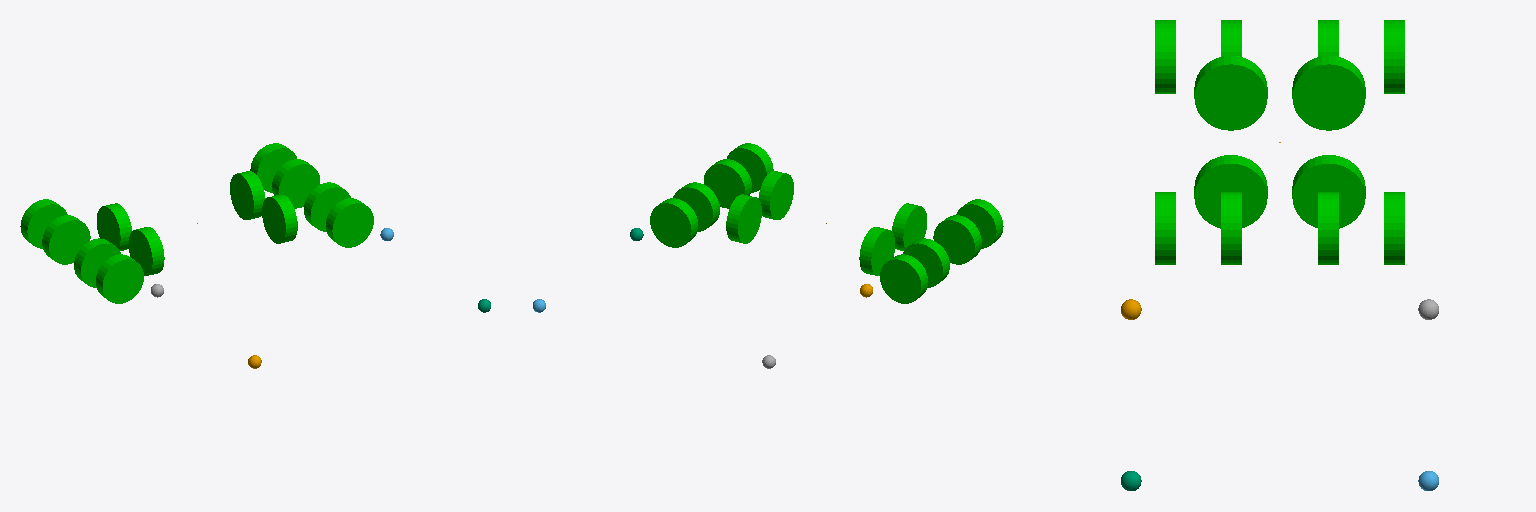
--- What the picture shows (computed from the rendered views, not written in the file) ---
Views: 3 orthographic renders of the robot side by side, from view 1: azimuth 30°, elevation 25°; view 2: azimuth 150°, elevation 25°; view 3: azimuth 270°, elevation 25°.
Model go2 with 32 links and 31 joints (12 revolute, 19 fixed), rooted at base, posed joints at zero except 4 at the middle of their limits (RF_KFE = -1.78, LF_KFE = -1.78, RH_KFE = -1.78, LH_KFE = -1.78).
Visible links, largest first — view 1: RF_calf_rotor, RH_calf_rotor, LH_thigh_rotor, LF_thigh_rotor, RF_hip_rotor, LF_hip_rotor, RH_hip_rotor, RF_thigh_rotor, RH_thigh_rotor, LH_calf_rotor, LH_hip_rotor, LF_calf_rotor; view 2: LF_calf_rotor, LH_calf_rotor, RH_thigh_rotor, RF_thigh_rotor, LF_hip_rotor, RF_hip_rotor, LH_hip_rotor, LF_thigh_rotor, LH_thigh_rotor, RH_calf_rotor, RH_hip_rotor, RF_calf_rotor; view 3: RH_hip_rotor, LH_hip_rotor, RF_hip_rotor, LF_hip_rotor, RH_calf_rotor, LH_calf_rotor, RF_thigh_rotor, RF_calf_rotor, LF_thigh_rotor, LF_calf_rotor, RH_thigh_rotor, LH_thigh_rotor.
Link boxes in pixels (box(x1,y1,x2,y2)): RF_calf_rotor: box(326, 198, 373, 247); RH_calf_rotor: box(96, 254, 143, 303); LH_thigh_rotor: box(42, 215, 90, 264); LF_thigh_rotor: box(272, 159, 319, 208); RF_hip_rotor: box(262, 194, 297, 243); LF_hip_rotor: box(230, 171, 265, 219); RH_hip_rotor: box(129, 227, 164, 275); RF_thigh_rotor: box(304, 182, 350, 231); RH_thigh_rotor: box(74, 238, 120, 287); LH_calf_rotor: box(20, 199, 67, 248); LH_hip_rotor: box(97, 203, 131, 250); LF_calf_rotor: box(250, 143, 296, 192); LF_calf_rotor: box(650, 198, 697, 247); LH_calf_rotor: box(880, 254, 927, 303); RH_thigh_rotor: box(933, 215, 981, 264); RF_thigh_rotor: box(704, 159, 751, 208); LF_hip_rotor: box(726, 194, 761, 243); RF_hip_rotor: box(758, 171, 793, 219); LH_hip_rotor: box(859, 227, 894, 275); LF_thigh_rotor: box(673, 182, 719, 231); LH_thigh_rotor: box(903, 238, 949, 287); RH_calf_rotor: box(956, 199, 1003, 248); RH_hip_rotor: box(892, 203, 926, 250); RF_calf_rotor: box(727, 143, 773, 192); RH_hip_rotor: box(1194, 55, 1267, 130); LH_hip_rotor: box(1292, 55, 1365, 130); RF_hip_rotor: box(1194, 155, 1267, 228); LF_hip_rotor: box(1292, 155, 1365, 228); RH_calf_rotor: box(1155, 20, 1175, 93); LH_calf_rotor: box(1384, 20, 1404, 93); RF_thigh_rotor: box(1221, 192, 1241, 264); RF_calf_rotor: box(1155, 192, 1175, 264); LF_thigh_rotor: box(1318, 192, 1338, 264); LF_calf_rotor: box(1384, 192, 1404, 264); RH_thigh_rotor: box(1221, 20, 1241, 56); LH_thigh_rotor: box(1318, 20, 1338, 56).
Bounding box of the posed robot: 0.6401 × 0.304 × 0.2137 m (x, y, z).
Meshes: 5 distinct files referenced, 0 mesh visuals loaded (none loaded); not drawn: 13 (reference not matched to a file when rendering).

The robot description file, URDF, robot "go2":
<?xml version="1.0" ?>
<!-- =================================================================================== -->
<!-- |    This document was autogenerated by xacro from robot.xacro                    | -->
<!-- |    EDITING THIS FILE BY HAND IS NOT RECOMMENDED                                 | -->
<!-- =================================================================================== -->
<robot name="go2">
  <material name="black">
    <color rgba="0.0 0.0 0.0 1.0"/>
  </material>
  <material name="blue">
    <color rgba="0.0 0.0 0.8 1.0"/>
  </material>
  <material name="green">
    <color rgba="0.0 0.8 0.0 1.0"/>
  </material>
  <material name="grey">
    <color rgba="0.2 0.2 0.2 0.0"/>
  </material>
  <material name="silver">
    <color rgba="0.9137254901960784 0.9137254901960784 0.8470588235294118 1.0"/>
  </material>
  <material name="orange">
    <color rgba="1.0 0.4235294117647059 0.0392156862745098 1.0"/>
  </material>
  <material name="brown">
    <color rgba="0.8705882352941177 0.8117647058823529 0.7647058823529411 1.0"/>
  </material>
  <material name="red">
    <color rgba="0.8 0.0 0.0 1.0"/>
  </material>
  <material name="white">
    <color rgba="1.0 1.0 1.0 1.0"/>
  </material>
  <!-- ros_control plugin -->
    <gazebo>
    <plugin filename="liblegged_hw_sim.so" name="gazebo_ros_control">
      <robotNamespace>/</robotNamespace>
      <robotParam>legged_robot_description</robotParam>
      <robotSimType>legged_gazebo/LeggedHWSim</robotSimType>
    </plugin>
  </gazebo>
  <gazebo>
    <plugin filename="libgazebo_ros_p3d.so" name="p3d_base_controller">
      <alwaysOn>true</alwaysOn>
      <updateRate>1000.0</updateRate>
      <bodyName>base</bodyName>
      <topicName>ground_truth/state</topicName>
      <gaussianNoise>0</gaussianNoise>
      <frameName>world</frameName>
      <xyzOffsets>0 0 0</xyzOffsets>
      <rpyOffsets>0 0 0</rpyOffsets>
    </plugin>
  </gazebo>

  <gazebo reference="trunk">
    <mu1>0.2</mu1>
    <mu2>0.2</mu2>
    <kp value="1000000.0"/>
    <kd value="1.0"/>
  </gazebo>
  <gazebo reference="stick_link">
    <mu1>0.2</mu1>
    <mu2>0.2</mu2>
  </gazebo>
  <gazebo reference="base_imu">
    <mu1>0.2</mu1>
    <mu2>0.2</mu2>
  </gazebo>
  <!-- FL leg -->
  <gazebo reference="LF_hip">
    <mu1>0.2</mu1>
    <mu2>0.2</mu2>
  </gazebo>
  <gazebo reference="LF_thigh">
    <mu1>0.2</mu1>
    <mu2>0.2</mu2>
    <self_collide>1</self_collide>
    <kp value="1000000.0"/>
    <kd value="1.0"/>
  </gazebo>
  <gazebo reference="LF_calf">
    <mu1>0.2</mu1>
    <mu2>0.2</mu2>
    <self_collide>1</self_collide>
  </gazebo>
  <gazebo reference="LF_FOOT">
    <mu1>0.6</mu1>
    <mu2>0.6</mu2>
    <self_collide>1</self_collide>
    <kp value="1000000.0"/>
    <kd value="1.0"/>
  </gazebo>
  <!-- FR leg -->
  <gazebo reference="RF_hip">
    <mu1>0.2</mu1>
    <mu2>0.2</mu2>
  </gazebo>
  <gazebo reference="RF_thigh">
    <mu1>0.2</mu1>
    <mu2>0.2</mu2>
    <self_collide>1</self_collide>
    <kp value="1000000.0"/>
    <kd value="1.0"/>
  </gazebo>
  <gazebo reference="RF_calf">
    <mu1>0.2</mu1>
    <mu2>0.2</mu2>
    <self_collide>1</self_collide>
  </gazebo>
  <gazebo reference="RF_FOOT">
    <mu1>0.6</mu1>
    <mu2>0.6</mu2>
    <self_collide>1</self_collide>
    <kp value="1000000.0"/>
    <kd value="1.0"/>
  </gazebo>
  <!-- RL leg -->
  <gazebo reference="LH_hip">
    <mu1>0.2</mu1>
    <mu2>0.2</mu2>
  </gazebo>
  <gazebo reference="LH_thigh">
    <mu1>0.2</mu1>
    <mu2>0.2</mu2>
    <self_collide>1</self_collide>
    <kp value="1000000.0"/>
    <kd value="1.0"/>
  </gazebo>
  <gazebo reference="LH_calf">
    <mu1>0.2</mu1>
    <mu2>0.2</mu2>
    <self_collide>1</self_collide>
  </gazebo>
  <gazebo reference="LH_FOOT">
    <mu1>0.6</mu1>
    <mu2>0.6</mu2>
    <self_collide>1</self_collide>
    <kp value="1000000.0"/>
    <kd value="1.0"/>
  </gazebo>
  <!-- RR leg -->
  <gazebo reference="LH_hip">
    <mu1>0.2</mu1>
    <mu2>0.2</mu2>
  </gazebo>
  <gazebo reference="RH_thigh">
    <mu1>0.2</mu1>
    <mu2>0.2</mu2>
    <self_collide>1</self_collide>
    <kp value="1000000.0"/>
    <kd value="1.0"/>
  </gazebo>
  <gazebo reference="RH_calf">
    <mu1>0.2</mu1>
    <mu2>0.2</mu2>
    <self_collide>1</self_collide>
  </gazebo>
  <gazebo reference="RH_FOOT">
    <mu1>0.6</mu1>
    <mu2>0.6</mu2>
    <self_collide>1</self_collide>
    <kp value="1000000.0"/>
    <kd value="1.0"/>
  </gazebo>
  <!-- <xacro:include filename="$(find go2_gazebo)/launch/stairs.urdf.xacro"/> -->
  <!-- <xacro:stairs stairs="15" xpos="0" ypos="0" zpos="0" /> -->
  <!-- Rotor related joint and link is only for demonstrate location. -->
  <!-- Actually, the rotor will rotate and the joint is not fixed. Reduction ratio should be considered. -->
  <link name="base">
    <visual>
      <origin rpy="0 0 0" xyz="0 0 0"/>
      <geometry>
        <box size="0.001 0.001 0.001"/>
      </geometry>
    </visual>
  </link>
  <joint name="floating_base" type="fixed">
    <origin rpy="0 0 0" xyz="0 0 0"/>
    <parent link="base"/>
    <child link="trunk"/>
  </joint>
  <link name="trunk">
    <visual>
      <origin rpy="0 0 0" xyz="0 0 0"/>
      <geometry>
        <mesh filename="go2_mesh/base.dae" scale="1 1 1"/>
      </geometry>
      <!-- <material name="orange"/> -->
    </visual>
    <collision>
      <origin rpy="0 0 0" xyz="0 0 0"/>
      <geometry>
        <box size="0.3762 0.0935 0.114"/>
      </geometry>
    </collision>
    <inertial>
      <origin rpy="0 0 0" xyz="0.021112 0.0 -0.005366"/>
      <mass value="6.921"/>
      <inertia ixx="0.02448" ixy="0.00012166" ixz="0.0014849" iyy="0.098077" iyz="-3.12e-05" izz="0.107"/>
    </inertial>
  </link>
  <joint name="base_imu_joint" type="fixed">
    <parent link="trunk"/>
    <child link="base_imu"/>
    <origin rpy="0 0 0" xyz="0 0 0"/>
  </joint>

  <gazebo reference="base_imu_joint">
    <disableFixedJointLumping>true</disableFixedJointLumping>
  </gazebo>

  <link name="base_imu">
    <inertial>
      <mass value="0.001"/>
      <origin rpy="0 0 0" xyz="0 0 0"/>
      <inertia ixx="0.0001" ixy="0" ixz="0" iyy="0.0001" iyz="0" izz="0.0001"/>
    </inertial>
    <visual>
      <origin rpy="0 0 0" xyz="0 0 0"/>
      <geometry>
        <box size="0.001 0.001 0.001"/>
      </geometry>
      <!-- <material name="red"/> -->
    </visual>
    <collision>
      <origin rpy="0 0 0" xyz="0 0 0"/>
      <geometry>
        <box size=".001 .001 .001"/>
      </geometry>
    </collision>
  </link>
  <joint name="front_camera_joint" type="fixed">
    <parent link="trunk"/>
    <child link="front_camera"/>
    <origin rpy="0 0 0" xyz="0.32715 -0.00003 0.04297"/>
  </joint>
  <link name="front_camera">
    </link>
  <joint name="RF_HAA" type="revolute">
    <origin rpy="0 0 0" xyz="0.1934 -0.0465 0"/>
    <parent link="trunk"/>
    <child link="RF_hip"/>
    <axis xyz="1 0 0"/>
    <dynamics damping="0.0" friction="0.0"/>
    <limit effort="23.7" lower="-1.0472" upper="1.0472" velocity="30.1"/>
  </joint>
  <joint name="RF_hip_rotor_joint" type="fixed">
    <origin rpy="0 0 0" xyz="0.11215 -0.04675 0"/>
    <parent link="trunk"/>
    <child link="RF_hip_rotor"/>
  </joint>
  <link name="RF_hip">
    <visual>
      <origin rpy="3.141592653589793 0 0" xyz="0 0 0"/>
      <geometry>
        <mesh filename="go2_mesh/hip.dae" scale="1 1 1"/>
      </geometry>
      <!-- <material name="orange"/> -->
    </visual>
    <collision>
      <origin rpy="1.5707963267948966 0 0" xyz="0 -0.0955 0"/>
      <geometry>
        <cylinder length="0.04" radius="0.046"/>
      </geometry>
    </collision>
    <inertial>
      <origin rpy="0 0 0" xyz="-0.0054 -0.00194 -0.000105"/>
      <mass value="0.678"/>
      <inertia ixx="0.00048" ixy="3.01e-06" ixz="1.11e-06" iyy="0.000884" iyz="1.42e-06" izz="0.000596"/>
    </inertial>
  </link>
  <link name="RF_hip_rotor">
    <visual>
      <origin rpy="0 1.5707963267948966 0" xyz="0 0 0"/>
      <geometry>
        <cylinder length="0.02" radius="0.035"/>
      </geometry>
      <material name="green"/>
    </visual>
    <!-- <collision>
                <origin rpy="0 ${PI/2.0} 0" xyz="0 0 0"/>
                <geometry>
                    <cylinder length="0.02" radius="0.035"/>
                </geometry>
            </collision> -->
    <inertial>
      <origin rpy="0 0 0" xyz="0.0 0.0 0.0"/>
      <mass value="0.089"/>
      <inertia ixx="0.000111842" ixy="0.0" ixz="0.0" iyy="5.9647e-05" iyz="0.0" izz="5.9647e-05"/>
    </inertial>
  </link>
  <joint name="RF_HFE" type="revolute">
    <origin rpy="0 0 0" xyz="0 -0.0955 0"/>
    <parent link="RF_hip"/>
    <child link="RF_thigh"/>
    <axis xyz="0 1 0"/>
    <dynamics damping="0.0" friction="0.0"/>
    <limit effort="23.7" lower="-1.5708" upper="3.4907" velocity="30.1"/>
  </joint>
  <joint name="RF_thigh_rotor_joint" type="fixed">
    <origin rpy="0 0 0" xyz="0.0 0.00015 0"/>
    <parent link="RF_hip"/>
    <child link="RF_thigh_rotor"/>
  </joint>
  <link name="RF_thigh">
    <visual>
      <origin rpy="0 0 0" xyz="0 0 0"/>
      <geometry>
        <mesh filename="go2_mesh/thigh_mirror.dae" scale="1 1 1"/>
      </geometry>
      <!-- <material name="orange"/> -->
    </visual>
    <collision>
      <origin rpy="0 1.5707963267948966 0" xyz="0 0 -0.1065"/>
      <geometry>
        <box size="0.213 0.0245 0.034"/>
      </geometry>
    </collision>
    <inertial>
      <origin rpy="0 0 0" xyz="-0.00374 0.0223 -0.0327"/>
      <mass value="1.152"/>
      <inertia ixx="0.00584" ixy="-8.72e-05" ixz="-0.000289" iyy="0.0058" iyz="-0.000808" izz="0.00103"/>
    </inertial>
  </link>
  <link name="RF_thigh_rotor">
    <visual>
      <origin rpy="1.5707963267948966 0 0" xyz="0 0 0"/>
      <geometry>
        <cylinder length="0.02" radius="0.035"/>
      </geometry>
      <material name="green"/>
    </visual>
    <!-- <collision>
                <origin rpy="${PI/2.0} 0 0" xyz="0 0 0"/>
                <geometry>
                    <cylinder length="0.02" radius="0.035"/>
                </geometry>
            </collision> -->
    <inertial>
      <origin rpy="0 0 0" xyz="0.0 0.0 0.0"/>
      <mass value="0.089"/>
      <inertia ixx="5.9647e-05" ixy="0.0" ixz="0.0" iyy="0.000111842" iyz="0.0" izz="5.9647e-05"/>
    </inertial>
  </link>
  <joint name="RF_KFE" type="revolute">
    <origin rpy="0 0 0" xyz="0 0 -0.213"/>
    <parent link="RF_thigh"/>
    <child link="RF_calf"/>
    <axis xyz="0 1 0"/>
    <dynamics damping="0.0" friction="0.0"/>
    <limit effort="35.55" lower="-2.7227" upper="-0.83776" velocity="20.06"/>
  </joint>
  <joint name="RF_calf_rotor_joint" type="fixed">
    <origin rpy="0 0 0" xyz="0.0 0.03235 0"/>
    <parent link="RF_thigh"/>
    <child link="RF_calf_rotor"/>
  </joint>
  <link name="RF_calf">
    <visual>
      <origin rpy="0 0 0" xyz="0 0 0"/>
      <geometry>
        <mesh filename="go2_mesh/calf.dae" scale="1 1 1"/>
      </geometry>
      <!-- <material name="orange"/> -->
    </visual>
    <collision>
      <origin rpy="0 1.5707963267948966 0" xyz="0 0 -0.1065"/>
      <geometry>
        <box size="0.213 0.016 0.016"/>
      </geometry>
    </collision>
    <inertial>
      <origin rpy="0 0 0" xyz="0.00548 -0.000975 -0.115"/>
      <mass value="0.154"/>
      <inertia ixx="0.00108" ixy="3.4e-07" ixz="1.72e-05" iyy="0.0011" iyz="8.28e-06" izz="3.29e-05"/>
    </inertial>
  </link>
  <link name="RF_calf_rotor">
    <visual>
      <origin rpy="1.5707963267948966 0 0" xyz="0 0 0"/>
      <geometry>
        <cylinder length="0.02" radius="0.035"/>
      </geometry>
      <material name="green"/>
    </visual>
    <!-- <collision>
                <origin rpy="${PI/2.0} 0 0" xyz="0 0 0"/>
                <geometry>
                    <cylinder length="0.02" radius="0.035"/>
                </geometry>
            </collision> -->
    <inertial>
      <origin rpy="0 0 0" xyz="0.0 0.0 0.0"/>
      <mass value="0.089"/>
      <inertia ixx="5.9647e-05" ixy="0.0" ixz="0.0" iyy="0.000111842" iyz="0.0" izz="5.9647e-05"/>
    </inertial>
  </link>
  <joint dont_collapse="true" name="RF_foot_fixed" type="fixed">
    <origin rpy="0 0 0" xyz="0 0 -0.213"/>
    <parent link="RF_calf"/>
    <child link="RF_FOOT"/>
  </joint>

  <gazebo reference="RF_foot_fixed">
    <disableFixedJointLumping>true</disableFixedJointLumping>
  </gazebo>

  <link name="RF_FOOT">
    <visual>
      <origin rpy="0 0 0" xyz="0 0 0"/>
      <geometry>
        <sphere radius="0.01"/>
      </geometry>
      <!-- <material name="orange"/> -->
    </visual>
    <collision>
      <origin rpy="0 0 0" xyz="0 0 0"/>
      <geometry>
        <sphere radius="0.02"/>
      </geometry>
    </collision>
    <inertial>
      <mass value="0.06"/>
      <inertia ixx="9.600000000000001e-06" ixy="0.0" ixz="0.0" iyy="9.600000000000001e-06" iyz="0.0" izz="9.600000000000001e-06"/>
    </inertial>
  </link>
  <transmission name="RF_hip_tran">
    <type>transmission_interface/SimpleTransmission</type>
    <joint name="RF_HAA">
      <hardwareInterface>hardware_interface/EffortJointInterface</hardwareInterface>
    </joint>
    <actuator name="RF_hip_motor">
      <hardwareInterface>hardware_interface/EffortJointInterface</hardwareInterface>
      <mechanicalReduction>1</mechanicalReduction>
    </actuator>
  </transmission>
  <transmission name="RF_thigh_tran">
    <type>transmission_interface/SimpleTransmission</type>
    <joint name="RF_HFE">
      <hardwareInterface>hardware_interface/EffortJointInterface</hardwareInterface>
    </joint>
    <actuator name="RF_thigh_motor">
      <hardwareInterface>hardware_interface/EffortJointInterface</hardwareInterface>
      <mechanicalReduction>1</mechanicalReduction>
    </actuator>
  </transmission>
  <transmission name="RF_calf_tran">
    <type>transmission_interface/SimpleTransmission</type>
    <joint name="RF_KFE">
      <hardwareInterface>hardware_interface/EffortJointInterface</hardwareInterface>
    </joint>
    <actuator name="RF_calf_motor">
      <hardwareInterface>hardware_interface/EffortJointInterface</hardwareInterface>
      <mechanicalReduction>1</mechanicalReduction>
    </actuator>
  </transmission>
  <joint name="LF_HAA" type="revolute">
    <origin rpy="0 0 0" xyz="0.1934 0.0465 0"/>
    <parent link="trunk"/>
    <child link="LF_hip"/>
    <axis xyz="1 0 0"/>
    <dynamics damping="0.0" friction="0.0"/>
    <limit effort="23.7" lower="-1.0472" upper="1.0472" velocity="30.1"/>
  </joint>
  <joint name="LF_hip_rotor_joint" type="fixed">
    <origin rpy="0 0 0" xyz="0.11215 0.04675 0"/>
    <parent link="trunk"/>
    <child link="LF_hip_rotor"/>
  </joint>
  <link name="LF_hip">
    <visual>
      <origin rpy="0 0 0" xyz="0 0 0"/>
      <geometry>
        <mesh filename="go2_mesh/hip.dae" scale="1 1 1"/>
      </geometry>
      <!-- <material name="orange"/> -->
    </visual>
    <collision>
      <origin rpy="1.5707963267948966 0 0" xyz="0 0.0955 0"/>
      <geometry>
        <cylinder length="0.04" radius="0.046"/>
      </geometry>
    </collision>
    <inertial>
      <origin rpy="0 0 0" xyz="-0.0054 0.00194 -0.000105"/>
      <mass value="0.678"/>
      <inertia ixx="0.00048" ixy="-3.01e-06" ixz="1.11e-06" iyy="0.000884" iyz="-1.42e-06" izz="0.000596"/>
    </inertial>
  </link>
  <link name="LF_hip_rotor">
    <visual>
      <origin rpy="0 1.5707963267948966 0" xyz="0 0 0"/>
      <geometry>
        <cylinder length="0.02" radius="0.035"/>
      </geometry>
      <material name="green"/>
    </visual>
    <!-- <collision>
                <origin rpy="0 ${PI/2.0} 0" xyz="0 0 0"/>
                <geometry>
                    <cylinder length="0.02" radius="0.035"/>
                </geometry>
            </collision> -->
    <inertial>
      <origin rpy="0 0 0" xyz="0.0 0.0 0.0"/>
      <mass value="0.089"/>
      <inertia ixx="0.000111842" ixy="0.0" ixz="0.0" iyy="5.9647e-05" iyz="0.0" izz="5.9647e-05"/>
    </inertial>
  </link>
  <joint name="LF_HFE" type="revolute">
    <origin rpy="0 0 0" xyz="0 0.0955 0"/>
    <parent link="LF_hip"/>
    <child link="LF_thigh"/>
    <axis xyz="0 1 0"/>
    <dynamics damping="0.0" friction="0.0"/>
    <limit effort="23.7" lower="-1.5708" upper="3.4907" velocity="30.1"/>
  </joint>
  <joint name="LF_thigh_rotor_joint" type="fixed">
    <origin rpy="0 0 0" xyz="0.0 -0.00015 0"/>
    <parent link="LF_hip"/>
    <child link="LF_thigh_rotor"/>
  </joint>
  <link name="LF_thigh">
    <visual>
      <origin rpy="0 0 0" xyz="0 0 0"/>
      <geometry>
        <mesh filename="go2_mesh/thigh.dae" scale="1 1 1"/>
      </geometry>
      <!-- <material name="orange"/> -->
    </visual>
    <collision>
      <origin rpy="0 1.5707963267948966 0" xyz="0 0 -0.1065"/>
      <geometry>
        <box size="0.213 0.0245 0.034"/>
      </geometry>
    </collision>
    <inertial>
      <origin rpy="0 0 0" xyz="-0.00374 -0.0223 -0.0327"/>
      <mass value="1.152"/>
      <inertia ixx="0.00584" ixy="8.72e-05" ixz="-0.000289" iyy="0.0058" iyz="0.000808" izz="0.00103"/>
    </inertial>
  </link>
  <link name="LF_thigh_rotor">
    <visual>
      <origin rpy="1.5707963267948966 0 0" xyz="0 0 0"/>
      <geometry>
        <cylinder length="0.02" radius="0.035"/>
      </geometry>
      <material name="green"/>
    </visual>
    <!-- <collision>
                <origin rpy="${PI/2.0} 0 0" xyz="0 0 0"/>
                <geometry>
                    <cylinder length="0.02" radius="0.035"/>
                </geometry>
            </collision> -->
    <inertial>
      <origin rpy="0 0 0" xyz="0.0 0.0 0.0"/>
      <mass value="0.089"/>
      <inertia ixx="5.9647e-05" ixy="0.0" ixz="0.0" iyy="0.000111842" iyz="0.0" izz="5.9647e-05"/>
    </inertial>
  </link>
  <joint name="LF_KFE" type="revolute">
    <origin rpy="0 0 0" xyz="0 0 -0.213"/>
    <parent link="LF_thigh"/>
    <child link="LF_calf"/>
    <axis xyz="0 1 0"/>
    <dynamics damping="0.0" friction="0.0"/>
    <limit effort="35.55" lower="-2.7227" upper="-0.83776" velocity="20.06"/>
  </joint>
  <joint name="LF_calf_rotor_joint" type="fixed">
    <origin rpy="0 0 0" xyz="0.0 -0.03235 0"/>
    <parent link="LF_thigh"/>
    <child link="LF_calf_rotor"/>
  </joint>
  <link name="LF_calf">
    <visual>
      <origin rpy="0 0 0" xyz="0 0 0"/>
      <geometry>
        <mesh filename="go2_mesh/calf.dae" scale="1 1 1"/>
      </geometry>
      <!-- <material name="orange"/> -->
    </visual>
    <collision>
      <origin rpy="0 1.5707963267948966 0" xyz="0 0 -0.1065"/>
      <geometry>
        <box size="0.213 0.016 0.016"/>
      </geometry>
    </collision>
    <inertial>
      <origin rpy="0 0 0" xyz="0.00548 -0.000975 -0.115"/>
      <mass value="0.154"/>
      <inertia ixx="0.00108" ixy="3.4e-07" ixz="1.72e-05" iyy="0.0011" iyz="8.28e-06" izz="3.29e-05"/>
    </inertial>
  </link>
  <link name="LF_calf_rotor">
    <visual>
      <origin rpy="1.5707963267948966 0 0" xyz="0 0 0"/>
      <geometry>
        <cylinder length="0.02" radius="0.035"/>
      </geometry>
      <material name="green"/>
    </visual>
    <!-- <collision>
                <origin rpy="${PI/2.0} 0 0" xyz="0 0 0"/>
                <geometry>
                    <cylinder length="0.02" radius="0.035"/>
                </geometry>
            </collision> -->
    <inertial>
      <origin rpy="0 0 0" xyz="0.0 0.0 0.0"/>
      <mass value="0.089"/>
      <inertia ixx="5.9647e-05" ixy="0.0" ixz="0.0" iyy="0.000111842" iyz="0.0" izz="5.9647e-05"/>
    </inertial>
  </link>
  <joint dont_collapse="true" name="LF_foot_fixed" type="fixed">
    <origin rpy="0 0 0" xyz="0 0 -0.213"/>
    <parent link="LF_calf"/>
    <child link="LF_FOOT"/>
  </joint>

  <gazebo reference="LF_foot_fixed">
    <disableFixedJointLumping>true</disableFixedJointLumping>
  </gazebo>

  <link name="LF_FOOT">
    <visual>
      <origin rpy="0 0 0" xyz="0 0 0"/>
      <geometry>
        <sphere radius="0.01"/>
      </geometry>
      <!-- <material name="orange"/> -->
    </visual>
    <collision>
      <origin rpy="0 0 0" xyz="0 0 0"/>
      <geometry>
        <sphere radius="0.02"/>
      </geometry>
    </collision>
    <inertial>
      <mass value="0.06"/>
      <inertia ixx="9.600000000000001e-06" ixy="0.0" ixz="0.0" iyy="9.600000000000001e-06" iyz="0.0" izz="9.600000000000001e-06"/>
    </inertial>
  </link>
  <transmission name="LF_hip_tran">
    <type>transmission_interface/SimpleTransmission</type>
    <joint name="LF_HAA">
      <hardwareInterface>hardware_interface/EffortJointInterface</hardwareInterface>
    </joint>
    <actuator name="LF_hip_motor">
      <hardwareInterface>hardware_interface/EffortJointInterface</hardwareInterface>
      <mechanicalReduction>1</mechanicalReduction>
    </actuator>
  </transmission>
  <transmission name="LF_thigh_tran">
    <type>transmission_interface/SimpleTransmission</type>
    <joint name="LF_HFE">
      <hardwareInterface>hardware_interface/EffortJointInterface</hardwareInterface>
    </joint>
    <actuator name="LF_thigh_motor">
      <hardwareInterface>hardware_interface/EffortJointInterface</hardwareInterface>
      <mechanicalReduction>1</mechanicalReduction>
    </actuator>
  </transmission>
  <transmission name="LF_calf_tran">
    <type>transmission_interface/SimpleTransmission</type>
    <joint name="LF_KFE">
      <hardwareInterface>hardware_interface/EffortJointInterface</hardwareInterface>
    </joint>
    <actuator name="LF_calf_motor">
      <hardwareInterface>hardware_interface/EffortJointInterface</hardwareInterface>
      <mechanicalReduction>1</mechanicalReduction>
    </actuator>
  </transmission>
  <joint name="RH_HAA" type="revolute">
    <origin rpy="0 0 0" xyz="-0.1934 -0.0465 0"/>
    <parent link="trunk"/>
    <child link="RH_hip"/>
    <axis xyz="1 0 0"/>
    <dynamics damping="0.0" friction="0.0"/>
    <limit effort="23.7" lower="-1.0472" upper="1.0472" velocity="30.1"/>
  </joint>
  <joint name="RH_hip_rotor_joint" type="fixed">
    <origin rpy="0 0 0" xyz="-0.11215 -0.04675 0"/>
    <parent link="trunk"/>
    <child link="RH_hip_rotor"/>
  </joint>
  <link name="RH_hip">
    <visual>
      <origin rpy="3.141592653589793 3.141592653589793 0" xyz="0 0 0"/>
      <geometry>
        <mesh filename="go2_mesh/hip.dae" scale="1 1 1"/>
      </geometry>
      <!-- <material name="orange"/> -->
    </visual>
    <collision>
      <origin rpy="1.5707963267948966 0 0" xyz="0 -0.0955 0"/>
      <geometry>
        <cylinder length="0.04" radius="0.046"/>
      </geometry>
    </collision>
    <inertial>
      <origin rpy="0 0 0" xyz="0.0054 -0.00194 -0.000105"/>
      <mass value="0.678"/>
      <inertia ixx="0.00048" ixy="-3.01e-06" ixz="-1.11e-06" iyy="0.000884" iyz="1.42e-06" izz="0.000596"/>
    </inertial>
  </link>
  <link name="RH_hip_rotor">
    <visual>
      <origin rpy="0 1.5707963267948966 0" xyz="0 0 0"/>
      <geometry>
        <cylinder length="0.02" radius="0.035"/>
      </geometry>
      <material name="green"/>
    </visual>
    <!-- <collision>
                <origin rpy="0 ${PI/2.0} 0" xyz="0 0 0"/>
                <geometry>
                    <cylinder length="0.02" radius="0.035"/>
                </geometry>
            </collision> -->
    <inertial>
      <origin rpy="0 0 0" xyz="0.0 0.0 0.0"/>
      <mass value="0.089"/>
      <inertia ixx="0.000111842" ixy="0.0" ixz="0.0" iyy="5.9647e-05" iyz="0.0" izz="5.9647e-05"/>
    </inertial>
  </link>
  <joint name="RH_HFE" type="revolute">
    <origin rpy="0 0 0" xyz="0 -0.0955 0"/>
    <parent link="RH_hip"/>
    <child link="RH_thigh"/>
    <axis xyz="0 1 0"/>
    <dynamics damping="0.0" friction="0.0"/>
    <limit effort="23.7" lower="-1.5708" upper="3.4907" velocity="30.1"/>
  </joint>
  <joint name="RH_thigh_rotor_joint" type="fixed">
    <origin rpy="0 0 0" xyz="0.0 0.00015 0"/>
    <parent link="RH_hip"/>
    <child link="RH_thigh_rotor"/>
  </joint>
  <link name="RH_thigh">
    <visual>
      <origin rpy="0 0 0" xyz="0 0 0"/>
      <geometry>
        <mesh filename="go2_mesh/thigh_mirror.dae" scale="1 1 1"/>
      </geometry>
      <!-- <material name="orange"/> -->
    </visual>
    <collision>
      <origin rpy="0 1.5707963267948966 0" xyz="0 0 -0.1065"/>
      <geometry>
        <box size="0.213 0.0245 0.034"/>
      </geometry>
    </collision>
    <inertial>
      <origin rpy="0 0 0" xyz="-0.00374 0.0223 -0.0327"/>
      <mass value="1.152"/>
      <inertia ixx="0.00584" ixy="-8.72e-05" ixz="-0.000289" iyy="0.0058" iyz="-0.000808" izz="0.00103"/>
    </inertial>
  </link>
  <link name="RH_thigh_rotor">
    <visual>
      <origin rpy="1.5707963267948966 0 0" xyz="0 0 0"/>
      <geometry>
        <cylinder length="0.02" radius="0.035"/>
      </geometry>
      <material name="green"/>
    </visual>
    <!-- <collision>
                <origin rpy="${PI/2.0} 0 0" xyz="0 0 0"/>
                <geometry>
                    <cylinder length="0.02" radius="0.035"/>
                </geometry>
            </collision> -->
    <inertial>
      <origin rpy="0 0 0" xyz="0.0 0.0 0.0"/>
      <mass value="0.089"/>
      <inertia ixx="5.9647e-05" ixy="0.0" ixz="0.0" iyy="0.000111842" iyz="0.0" izz="5.9647e-05"/>
    </inertial>
  </link>
  <joint name="RH_KFE" type="revolute">
    <origin rpy="0 0 0" xyz="0 0 -0.213"/>
    <parent link="RH_thigh"/>
    <child link="RH_calf"/>
    <axis xyz="0 1 0"/>
    <dynamics damping="0.0" friction="0.0"/>
    <limit effort="35.55" lower="-2.7227" upper="-0.83776" velocity="20.06"/>
  </joint>
  <joint name="RH_calf_rotor_joint" type="fixed">
    <origin rpy="0 0 0" xyz="0.0 0.03235 0"/>
    <parent link="RH_thigh"/>
    <child link="RH_calf_rotor"/>
  </joint>
  <link name="RH_calf">
    <visual>
      <origin rpy="0 0 0" xyz="0 0 0"/>
      <geometry>
        <mesh filename="go2_mesh/calf.dae" scale="1 1 1"/>
      </geometry>
      <!-- <material name="orange"/> -->
    </visual>
    <collision>
      <origin rpy="0 1.5707963267948966 0" xyz="0 0 -0.1065"/>
      <geometry>
        <box size="0.213 0.016 0.016"/>
      </geometry>
    </collision>
    <inertial>
      <origin rpy="0 0 0" xyz="0.00548 -0.000975 -0.115"/>
      <mass value="0.154"/>
      <inertia ixx="0.00108" ixy="3.4e-07" ixz="1.72e-05" iyy="0.0011" iyz="8.28e-06" izz="3.29e-05"/>
    </inertial>
  </link>
  <link name="RH_calf_rotor">
    <visual>
      <origin rpy="1.5707963267948966 0 0" xyz="0 0 0"/>
      <geometry>
        <cylinder length="0.02" radius="0.035"/>
      </geometry>
      <material name="green"/>
    </visual>
    <!-- <collision>
                <origin rpy="${PI/2.0} 0 0" xyz="0 0 0"/>
                <geometry>
                    <cylinder length="0.02" radius="0.035"/>
                </geometry>
            </collision> -->
    <inertial>
      <origin rpy="0 0 0" xyz="0.0 0.0 0.0"/>
      <mass value="0.089"/>
      <inertia ixx="5.9647e-05" ixy="0.0" ixz="0.0" iyy="0.000111842" iyz="0.0" izz="5.9647e-05"/>
    </inertial>
  </link>
  <joint dont_collapse="true" name="RH_foot_fixed" type="fixed">
    <origin rpy="0 0 0" xyz="0 0 -0.213"/>
    <parent link="RH_calf"/>
    <child link="RH_FOOT"/>
  </joint>

  <gazebo reference="RH_foot_fixed">
    <disableFixedJointLumping>true</disableFixedJointLumping>
  </gazebo>

  <link name="RH_FOOT">
    <visual>
      <origin rpy="0 0 0" xyz="0 0 0"/>
      <geometry>
        <sphere radius="0.01"/>
      </geometry>
      <!-- <material name="orange"/> -->
    </visual>
    <collision>
      <origin rpy="0 0 0" xyz="0 0 0"/>
      <geometry>
        <sphere radius="0.02"/>
      </geometry>
    </collision>
    <inertial>
      <mass value="0.06"/>
      <inertia ixx="9.600000000000001e-06" ixy="0.0" ixz="0.0" iyy="9.600000000000001e-06" iyz="0.0" izz="9.600000000000001e-06"/>
    </inertial>
  </link>
  <transmission name="RH_hip_tran">
    <type>transmission_interface/SimpleTransmission</type>
    <joint name="RH_HAA">
      <hardwareInterface>hardware_interface/EffortJointInterface</hardwareInterface>
    </joint>
    <actuator name="RH_hip_motor">
      <hardwareInterface>hardware_interface/EffortJointInterface</hardwareInterface>
      <mechanicalReduction>1</mechanicalReduction>
    </actuator>
  </transmission>
  <transmission name="RH_thigh_tran">
    <type>transmission_interface/SimpleTransmission</type>
    <joint name="RH_HFE">
      <hardwareInterface>hardware_interface/EffortJointInterface</hardwareInterface>
    </joint>
    <actuator name="RH_thigh_motor">
      <hardwareInterface>hardware_interface/EffortJointInterface</hardwareInterface>
      <mechanicalReduction>1</mechanicalReduction>
    </actuator>
  </transmission>
  <transmission name="RH_calf_tran">
    <type>transmission_interface/SimpleTransmission</type>
    <joint name="RH_KFE">
      <hardwareInterface>hardware_interface/EffortJointInterface</hardwareInterface>
    </joint>
    <actuator name="RH_calf_motor">
      <hardwareInterface>hardware_interface/EffortJointInterface</hardwareInterface>
      <mechanicalReduction>1</mechanicalReduction>
    </actuator>
  </transmission>
  <joint name="LH_HAA" type="revolute">
    <origin rpy="0 0 0" xyz="-0.1934 0.0465 0"/>
    <parent link="trunk"/>
    <child link="LH_hip"/>
    <axis xyz="1 0 0"/>
    <dynamics damping="0.0" friction="0.0"/>
    <limit effort="23.7" lower="-1.0472" upper="1.0472" velocity="30.1"/>
  </joint>
  <joint name="LH_hip_rotor_joint" type="fixed">
    <origin rpy="0 0 0" xyz="-0.11215 0.04675 0"/>
    <parent link="trunk"/>
    <child link="LH_hip_rotor"/>
  </joint>
  <link name="LH_hip">
    <visual>
      <origin rpy="0 3.141592653589793 0" xyz="0 0 0"/>
      <geometry>
        <mesh filename="go2_mesh/hip.dae" scale="1 1 1"/>
      </geometry>
      <!-- <material name="orange"/> -->
    </visual>
    <collision>
      <origin rpy="1.5707963267948966 0 0" xyz="0 0.0955 0"/>
      <geometry>
        <cylinder length="0.04" radius="0.046"/>
      </geometry>
    </collision>
    <inertial>
      <origin rpy="0 0 0" xyz="0.0054 0.00194 -0.000105"/>
      <mass value="0.678"/>
      <inertia ixx="0.00048" ixy="3.01e-06" ixz="-1.11e-06" iyy="0.000884" iyz="-1.42e-06" izz="0.000596"/>
    </inertial>
  </link>
  <link name="LH_hip_rotor">
    <visual>
      <origin rpy="0 1.5707963267948966 0" xyz="0 0 0"/>
      <geometry>
        <cylinder length="0.02" radius="0.035"/>
      </geometry>
      <material name="green"/>
    </visual>
    <!-- <collision>
                <origin rpy="0 ${PI/2.0} 0" xyz="0 0 0"/>
                <geometry>
                    <cylinder length="0.02" radius="0.035"/>
                </geometry>
            </collision> -->
    <inertial>
      <origin rpy="0 0 0" xyz="0.0 0.0 0.0"/>
      <mass value="0.089"/>
      <inertia ixx="0.000111842" ixy="0.0" ixz="0.0" iyy="5.9647e-05" iyz="0.0" izz="5.9647e-05"/>
    </inertial>
  </link>
  <joint name="LH_HFE" type="revolute">
    <origin rpy="0 0 0" xyz="0 0.0955 0"/>
    <parent link="LH_hip"/>
    <child link="LH_thigh"/>
    <axis xyz="0 1 0"/>
    <dynamics damping="0.0" friction="0.0"/>
    <limit effort="23.7" lower="-1.5708" upper="3.4907" velocity="30.1"/>
  </joint>
  <joint name="LH_thigh_rotor_joint" type="fixed">
    <origin rpy="0 0 0" xyz="0.0 -0.00015 0"/>
    <parent link="LH_hip"/>
    <child link="LH_thigh_rotor"/>
  </joint>
  <link name="LH_thigh">
    <visual>
      <origin rpy="0 0 0" xyz="0 0 0"/>
      <geometry>
        <mesh filename="go2_mesh/thigh.dae" scale="1 1 1"/>
      </geometry>
      <!-- <material name="orange"/> -->
    </visual>
    <collision>
      <origin rpy="0 1.5707963267948966 0" xyz="0 0 -0.1065"/>
      <geometry>
        <box size="0.213 0.0245 0.034"/>
      </geometry>
    </collision>
    <inertial>
      <origin rpy="0 0 0" xyz="-0.00374 -0.0223 -0.0327"/>
      <mass value="1.152"/>
      <inertia ixx="0.00584" ixy="8.72e-05" ixz="-0.000289" iyy="0.0058" iyz="0.000808" izz="0.00103"/>
    </inertial>
  </link>
  <link name="LH_thigh_rotor">
    <visual>
      <origin rpy="1.5707963267948966 0 0" xyz="0 0 0"/>
      <geometry>
        <cylinder length="0.02" radius="0.035"/>
      </geometry>
      <material name="green"/>
    </visual>
    <!-- <collision>
                <origin rpy="${PI/2.0} 0 0" xyz="0 0 0"/>
                <geometry>
                    <cylinder length="0.02" radius="0.035"/>
                </geometry>
            </collision> -->
    <inertial>
      <origin rpy="0 0 0" xyz="0.0 0.0 0.0"/>
      <mass value="0.089"/>
      <inertia ixx="5.9647e-05" ixy="0.0" ixz="0.0" iyy="0.000111842" iyz="0.0" izz="5.9647e-05"/>
    </inertial>
  </link>
  <joint name="LH_KFE" type="revolute">
    <origin rpy="0 0 0" xyz="0 0 -0.213"/>
    <parent link="LH_thigh"/>
    <child link="LH_calf"/>
    <axis xyz="0 1 0"/>
    <dynamics damping="0.0" friction="0.0"/>
    <limit effort="35.55" lower="-2.7227" upper="-0.83776" velocity="20.06"/>
  </joint>
  <joint name="LH_calf_rotor_joint" type="fixed">
    <origin rpy="0 0 0" xyz="0.0 -0.03235 0"/>
    <parent link="LH_thigh"/>
    <child link="LH_calf_rotor"/>
  </joint>
  <link name="LH_calf">
    <visual>
      <origin rpy="0 0 0" xyz="0 0 0"/>
      <geometry>
        <mesh filename="go2_mesh/calf.dae" scale="1 1 1"/>
      </geometry>
      <!-- <material name="orange"/> -->
    </visual>
    <collision>
      <origin rpy="0 1.5707963267948966 0" xyz="0 0 -0.1065"/>
      <geometry>
        <box size="0.213 0.016 0.016"/>
      </geometry>
    </collision>
    <inertial>
      <origin rpy="0 0 0" xyz="0.00548 -0.000975 -0.115"/>
      <mass value="0.154"/>
      <inertia ixx="0.00108" ixy="3.4e-07" ixz="1.72e-05" iyy="0.0011" iyz="8.28e-06" izz="3.29e-05"/>
    </inertial>
  </link>
  <link name="LH_calf_rotor">
    <visual>
      <origin rpy="1.5707963267948966 0 0" xyz="0 0 0"/>
      <geometry>
        <cylinder length="0.02" radius="0.035"/>
      </geometry>
      <material name="green"/>
    </visual>
    <!-- <collision>
                <origin rpy="${PI/2.0} 0 0" xyz="0 0 0"/>
                <geometry>
                    <cylinder length="0.02" radius="0.035"/>
                </geometry>
            </collision> -->
    <inertial>
      <origin rpy="0 0 0" xyz="0.0 0.0 0.0"/>
      <mass value="0.089"/>
      <inertia ixx="5.9647e-05" ixy="0.0" ixz="0.0" iyy="0.000111842" iyz="0.0" izz="5.9647e-05"/>
    </inertial>
  </link>
  <joint dont_collapse="true" name="LH_foot_fixed" type="fixed">
    <origin rpy="0 0 0" xyz="0 0 -0.213"/>
    <parent link="LH_calf"/>
    <child link="LH_FOOT"/>
  </joint>

  <gazebo reference="LH_foot_fixed">
    <disableFixedJointLumping>true</disableFixedJointLumping>
  </gazebo>

  <link name="LH_FOOT">
    <visual>
      <origin rpy="0 0 0" xyz="0 0 0"/>
      <geometry>
        <sphere radius="0.01"/>
      </geometry>
      <!-- <material name="orange"/> -->
    </visual>
    <collision>
      <origin rpy="0 0 0" xyz="0 0 0"/>
      <geometry>
        <sphere radius="0.02"/>
      </geometry>
    </collision>
    <inertial>
      <mass value="0.06"/>
      <inertia ixx="9.600000000000001e-06" ixy="0.0" ixz="0.0" iyy="9.600000000000001e-06" iyz="0.0" izz="9.600000000000001e-06"/>
    </inertial>
  </link>
  <transmission name="LH_hip_tran">
    <type>transmission_interface/SimpleTransmission</type>
    <joint name="LH_HAA">
      <hardwareInterface>hardware_interface/EffortJointInterface</hardwareInterface>
    </joint>
    <actuator name="LH_hip_motor">
      <hardwareInterface>hardware_interface/EffortJointInterface</hardwareInterface>
      <mechanicalReduction>1</mechanicalReduction>
    </actuator>
  </transmission>
  <transmission name="LH_thigh_tran">
    <type>transmission_interface/SimpleTransmission</type>
    <joint name="LH_HFE">
      <hardwareInterface>hardware_interface/EffortJointInterface</hardwareInterface>
    </joint>
    <actuator name="LH_thigh_motor">
      <hardwareInterface>hardware_interface/EffortJointInterface</hardwareInterface>
      <mechanicalReduction>1</mechanicalReduction>
    </actuator>
  </transmission>
  <transmission name="LH_calf_tran">
    <type>transmission_interface/SimpleTransmission</type>
    <joint name="LH_KFE">
      <hardwareInterface>hardware_interface/EffortJointInterface</hardwareInterface>
    </joint>
    <actuator name="LH_calf_motor">
      <hardwareInterface>hardware_interface/EffortJointInterface</hardwareInterface>
      <mechanicalReduction>1</mechanicalReduction>
    </actuator>
  </transmission>
</robot>
